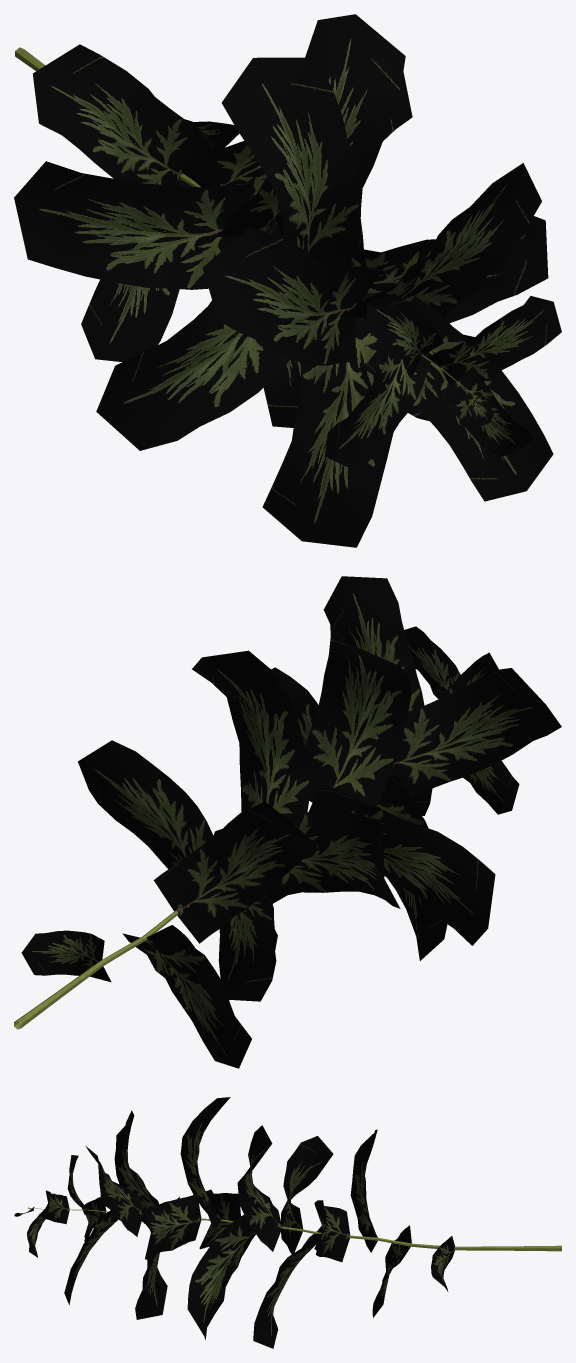
3 renders of one model, top to bottom at view 1: azimuth 30°, elevation 25°; view 2: azimuth 150°, elevation 25°; view 3: azimuth 270°, elevation 25°, orthographic. The views are drawn at different scales.
Parts seen in each view (by area): view 1: GC03_3; view 2: GC03_3; view 3: GC03_3.
Part boxes in pixels (x1,y1,x2,y2): GC03_3: [14, 14, 561, 547]; GC03_3: [14, 576, 561, 1068]; GC03_3: [14, 1097, 561, 1348].
Size of the model in its own units: 0.4345 by 0.4466 by 0.9902.
3 materials, 3 textured.
